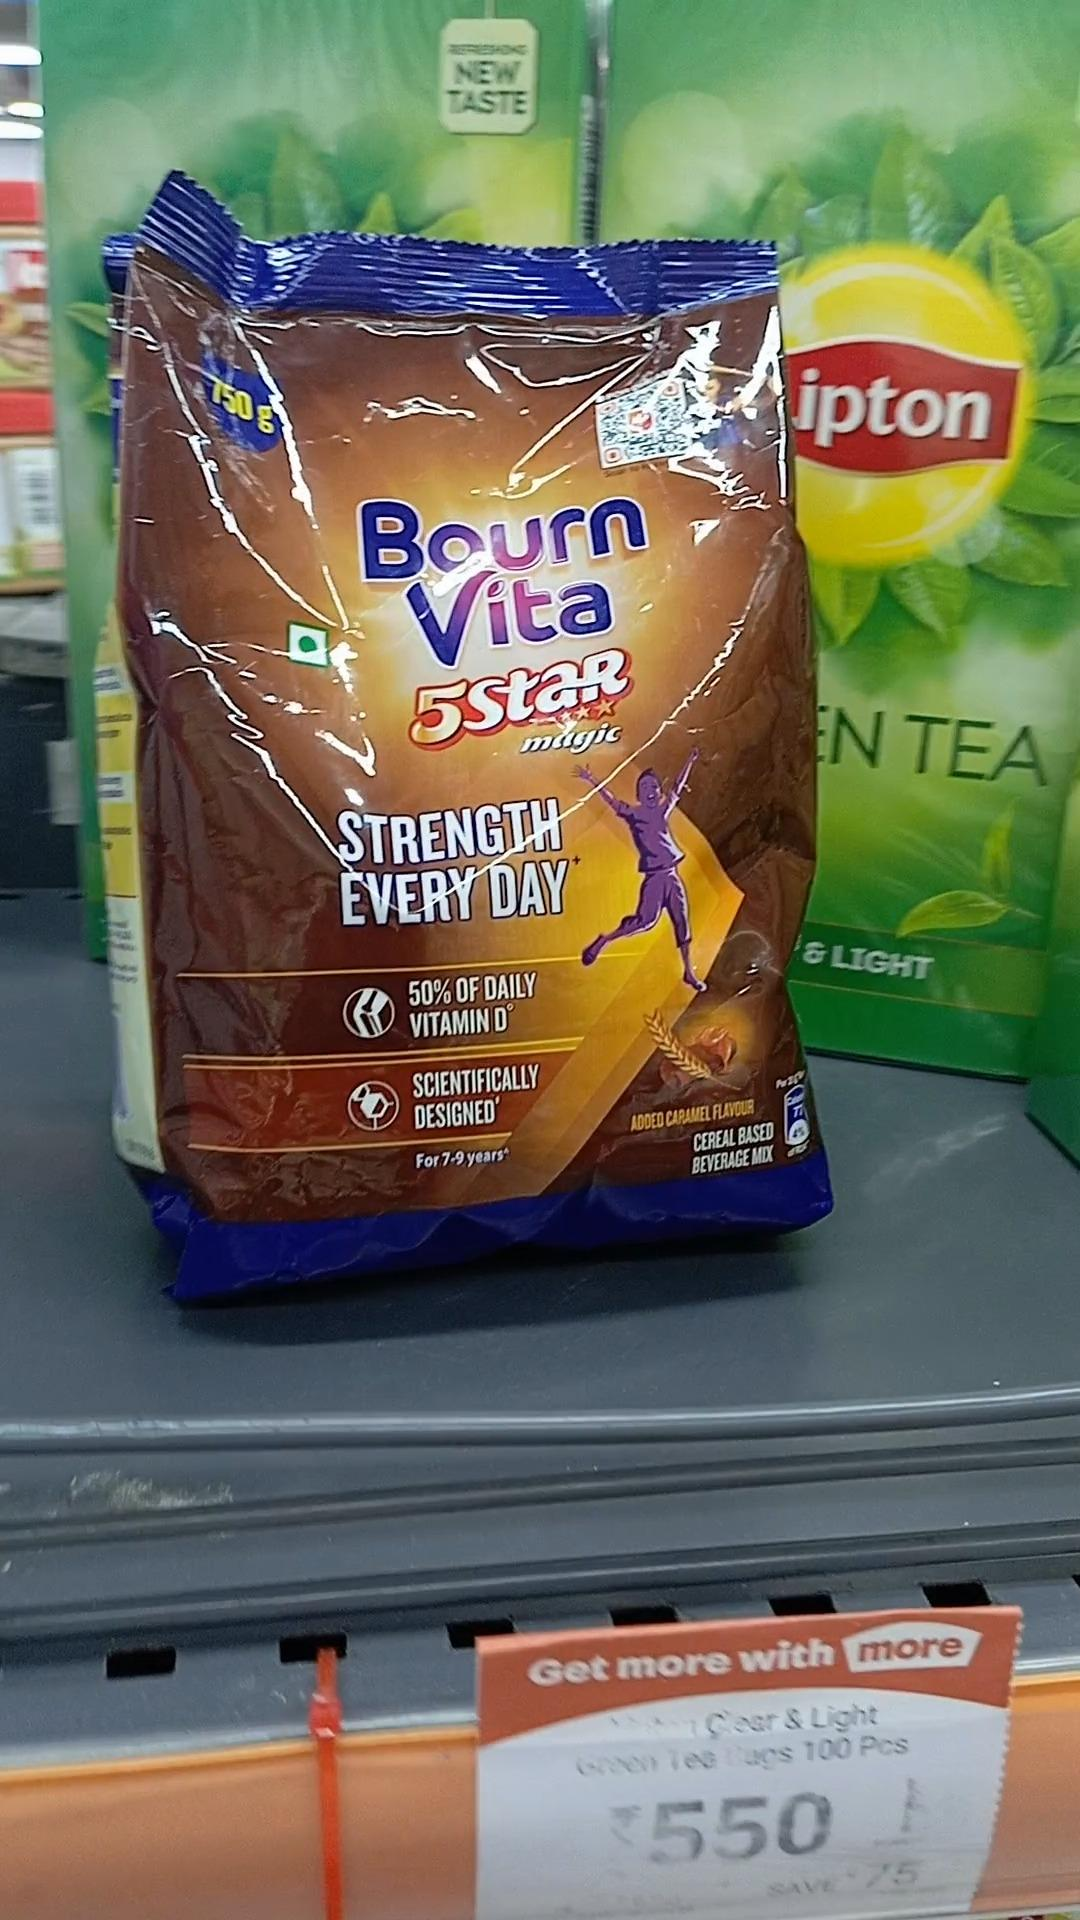BOURN_VITA_FIVE_STAR_MAGIC_750_G_POUCH: (132, 239, 827, 1257)
